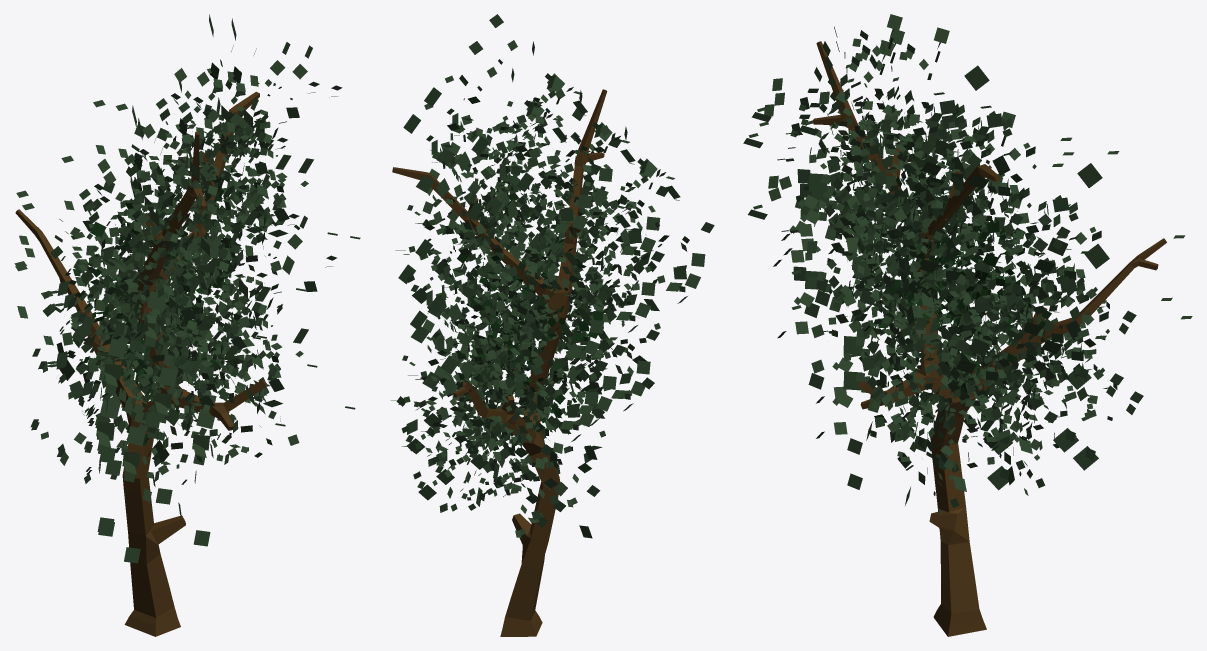
The model's file is arbre4-path_of-matches.fbx.
3 views of the same model, side by side, from view 1: azimuth 30°, elevation 25°; view 2: azimuth 150°, elevation 25°; view 3: azimuth 270°, elevation 25° (orthographic). The views are drawn at different scales.
Parts seen in each view (by area): view 1: Plane.012; view 2: Plane.012; view 3: Plane.012.
Boxes of the visible parts, bbox=[...] form: Plane.012: bbox=[14, 14, 360, 636]; Plane.012: bbox=[391, 14, 714, 636]; Plane.012: bbox=[743, 14, 1192, 636].
Size of the model in its own units: 622 by 1157 by 747.
